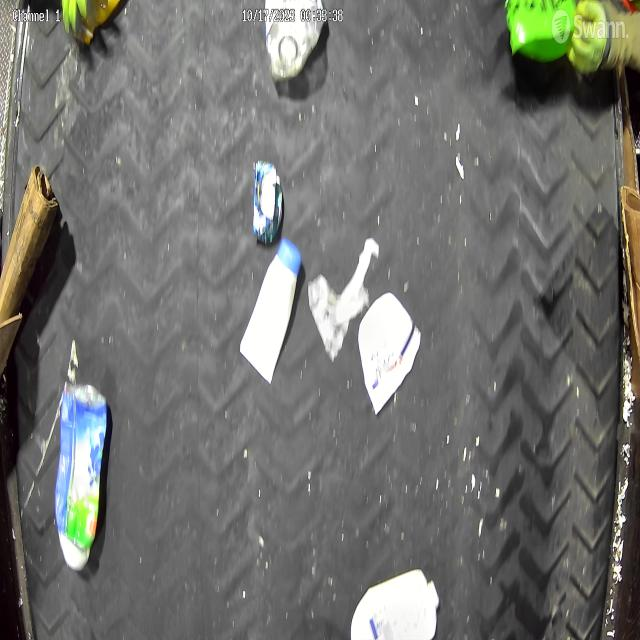can: (253, 159, 285, 243)
non_white_jug: (506, 0, 580, 63)
